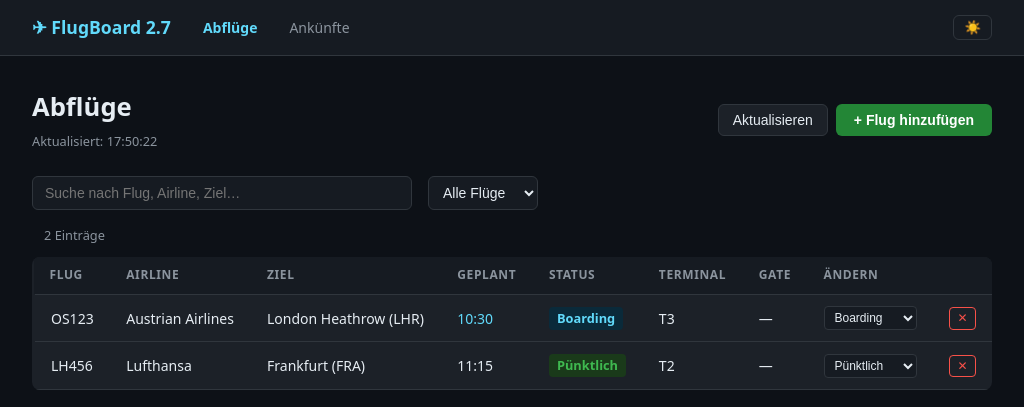
Test case: Wechsel zu Ankünfte zeigt die Daten sofort, ohne erneut zu laden
Expected: the text "OS123" is shown, [51, 309, 94, 328]
What coordinates should you click on to do the following:
click the link "Ankünfte"
I would click on:
 (320, 28)
Its box is [289, 17, 350, 38].
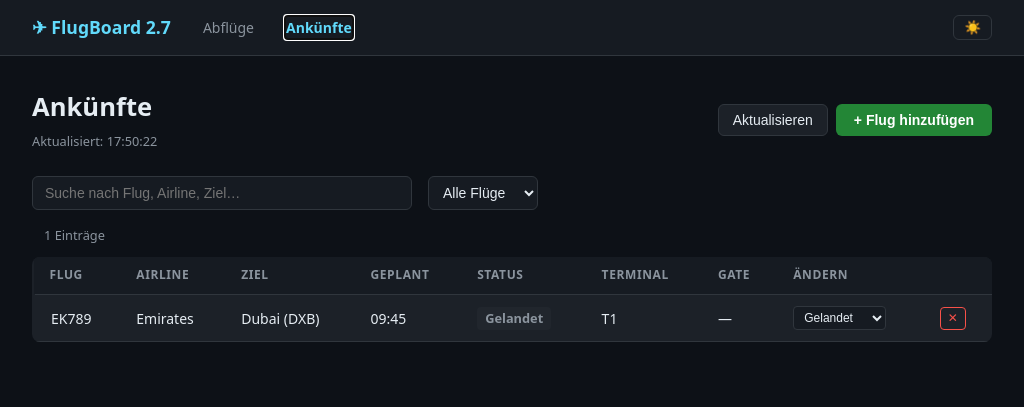
Result: the text "EK789" is shown at [51, 309, 92, 328]
